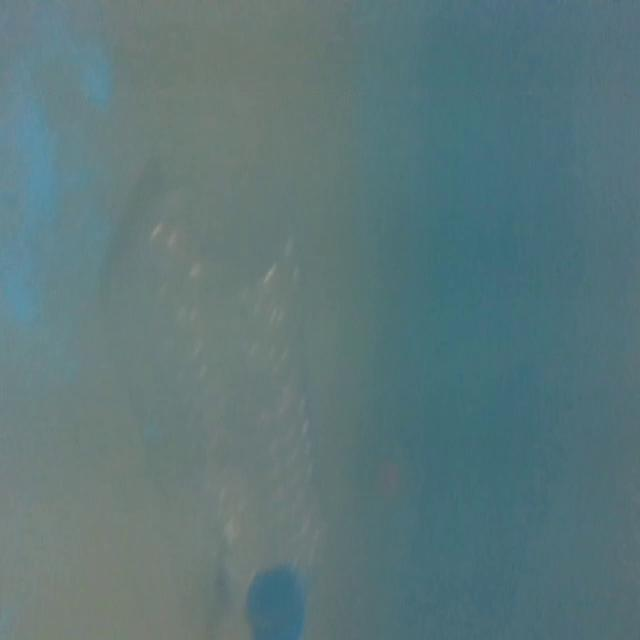plastic bottle: (145, 210, 327, 640)
